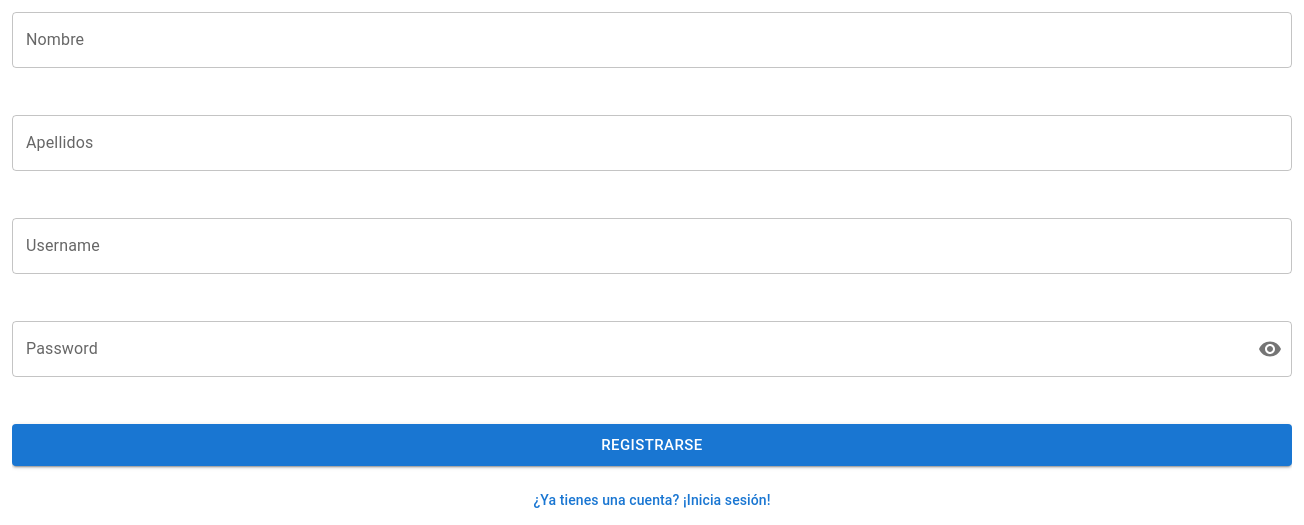
Test: Given a RegisterForm component › When invoked and user don't enters username, name, and password › Then it should show three diferenten helper text for each field
The width and height of the screenshot is (1304, 525).
Click the button "registrarse" at (652,445), box [12,424,1292,466]
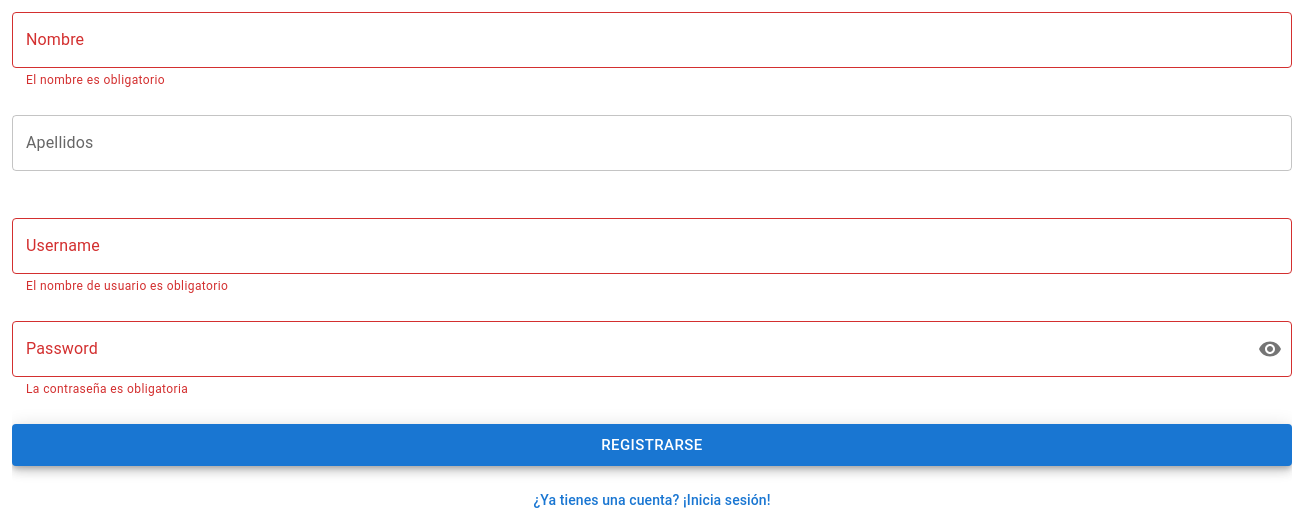
Expected: the text "El nombre es obligatorio" is shown, [26,73,165,87]
Expected: the text "El nombre de usuario es obligatorio" is shown, [26,279,228,293]
Expected: the text "La contraseña es obligatoria" is shown, [26,382,188,396]
